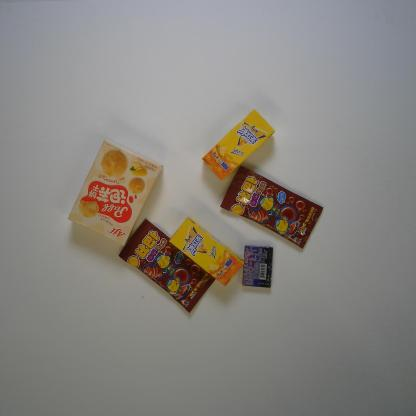Candy: (118, 216, 217, 316), (219, 164, 324, 252)
Dessert: (66, 138, 165, 249)
Drink: (200, 108, 276, 182), (168, 215, 246, 287)
Gum: (240, 243, 274, 291)
